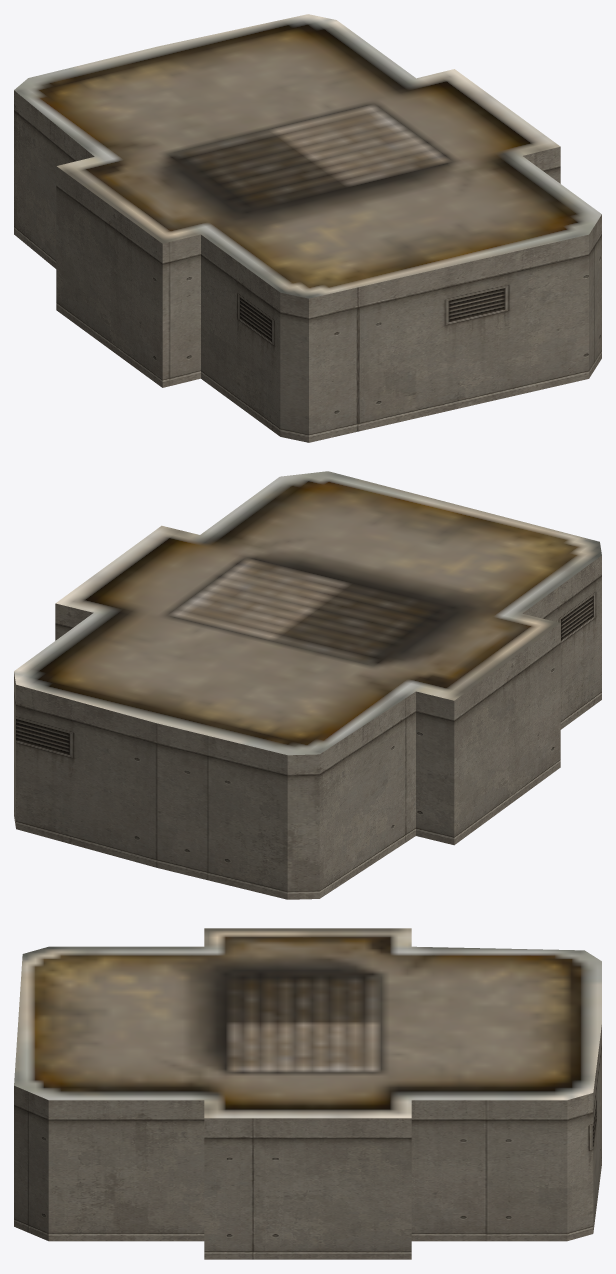
Rendered from building_single_medium_2.glb.
3 renders of one model, top to bottom at view 1: azimuth 30°, elevation 25°; view 2: azimuth 150°, elevation 25°; view 3: azimuth 270°, elevation 25°, orthographic. The views are drawn at different scales.
Parts seen in each view (by area): view 1: buildings/saxarba/building_single/building_single_medium_2; view 2: buildings/saxarba/building_single/building_single_medium_2; view 3: buildings/saxarba/building_single/building_single_medium_2.
Boxes of the visible parts, x1,y1,x2,y2 form: buildings/saxarba/building_single/building_single_medium_2: (14,14,601,442); buildings/saxarba/building_single/building_single_medium_2: (14,471,601,899); buildings/saxarba/building_single/building_single_medium_2: (14,928,601,1259).
Bounding box in the file's own units: 52 × 18 × 68.
